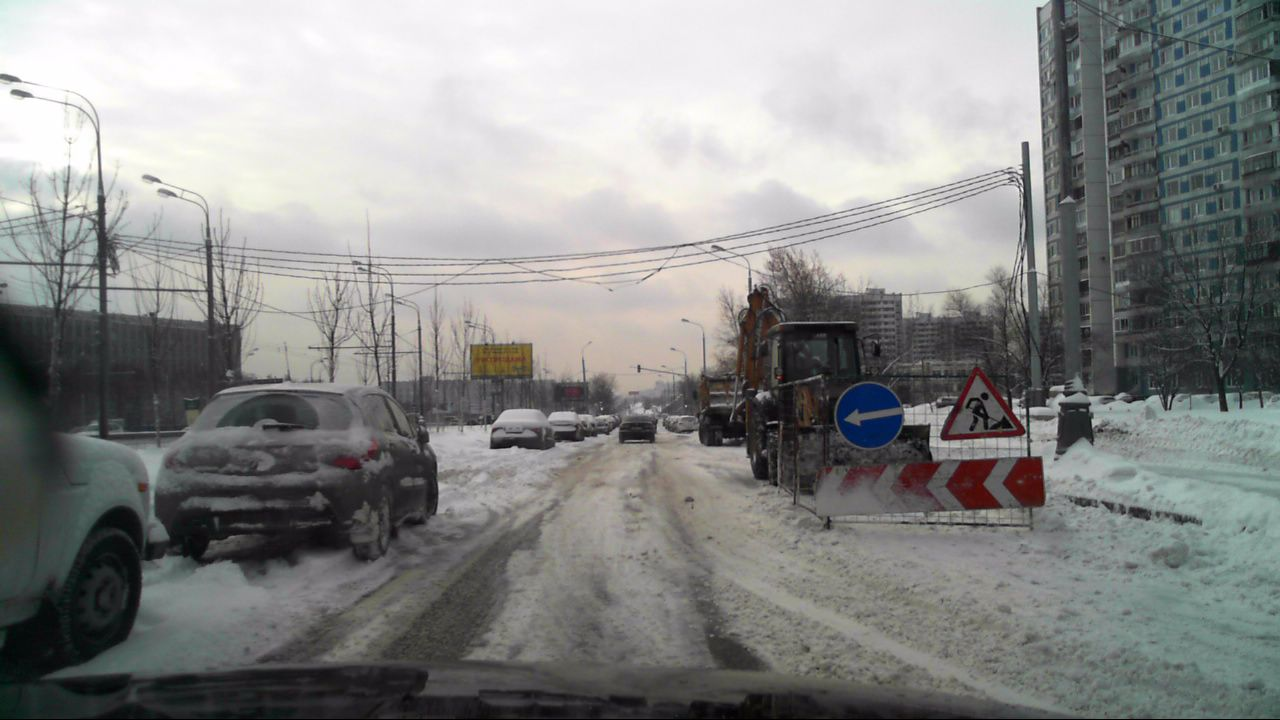Turn Left: (834, 382, 905, 450)
